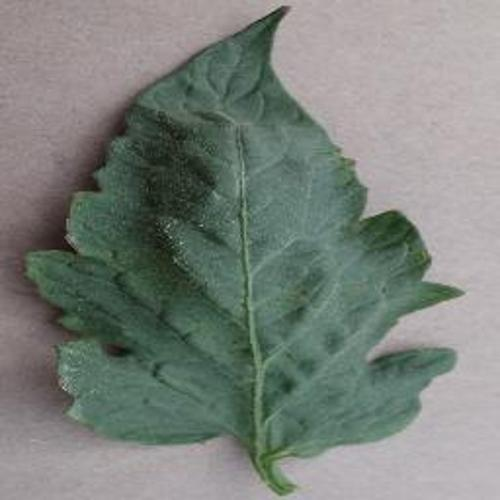Tomato: (24, 6, 466, 497)
